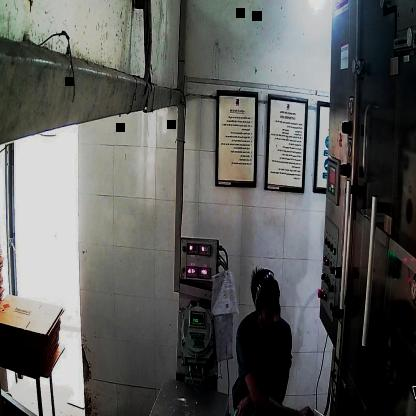no_goggles: (255, 301, 284, 322)
